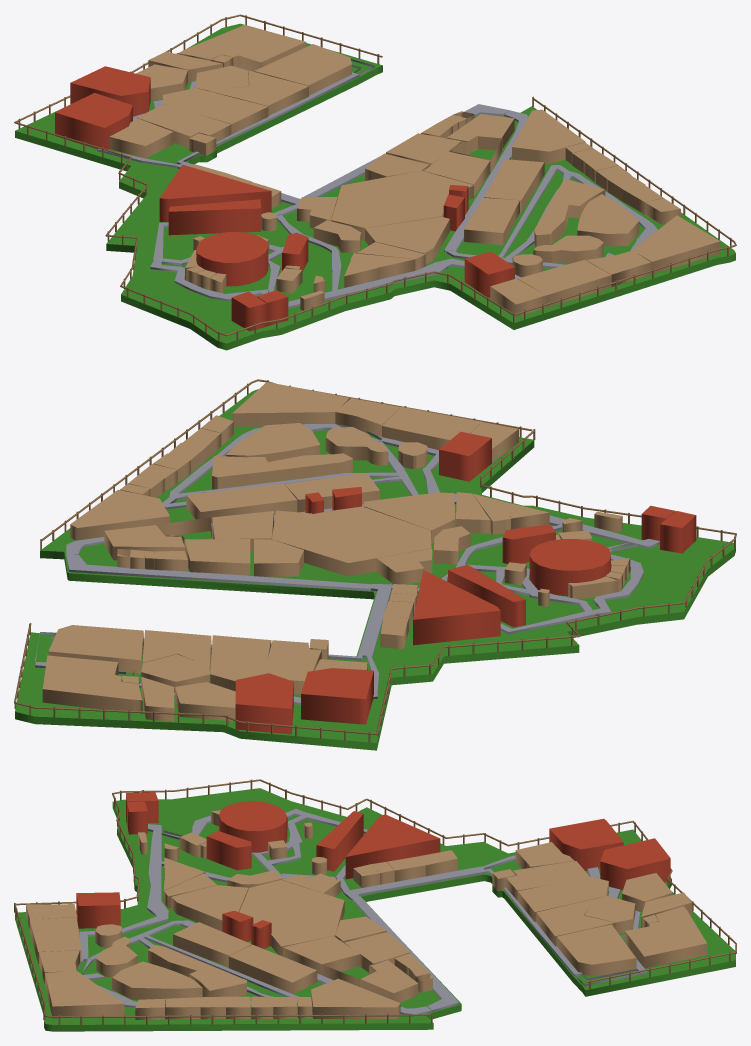
The model's file is zoo-map.glb.
The picture shows the model from 3 angles, top to bottom: view 1: azimuth 30°, elevation 25°; view 2: azimuth 150°, elevation 25°; view 3: azimuth 270°, elevation 25°; orthographic projection. The views are drawn at different scales.
Parts seen in each view (by area): view 1: Recintos, Suelo, Servicios, Caminos, Cerca0, Cerca77; view 2: Recintos, Suelo, Servicios, Caminos, Cerca0, Cerca77; view 3: Recintos, Suelo, Servicios, Caminos, Cerca0, Cerca77.
Part boxes in pixels (x1=…): Recintos: x1=109, y1=25, x2=720, y2=316; Suelo: x1=15, y1=23, x2=735, y2=350; Servicios: x1=55, y1=66, x2=514, y2=331; Caminos: x1=97, y1=59, x2=657, y2=308; Cerca0: x1=14, y1=14, x2=512, y2=336; Cerca77: x1=515, y1=98, x2=736, y2=314; Recintos: x1=42, y1=382, x2=630, y2=721; Suelo: x1=15, y1=389, x2=735, y2=750; Servicios: x1=235, y1=431, x2=696, y2=734; Caminos: x1=35, y1=424, x2=659, y2=705; Cerca0: x1=14, y1=430, x2=736, y2=734; Cerca77: x1=42, y1=379, x2=532, y2=540; Recintos: x1=26, y1=810, x2=707, y2=1019; Suelo: x1=15, y1=788, x2=735, y2=1031; Servicios: x1=76, y1=792, x2=670, y2=948; Caminos: x1=77, y1=808, x2=646, y2=1016; Cerca0: x1=15, y1=779, x2=736, y2=982; Cerca77: x1=14, y1=904, x2=431, y2=1017.
Size of the model in its own units: 7.7 by 0.44 by 9.9.
